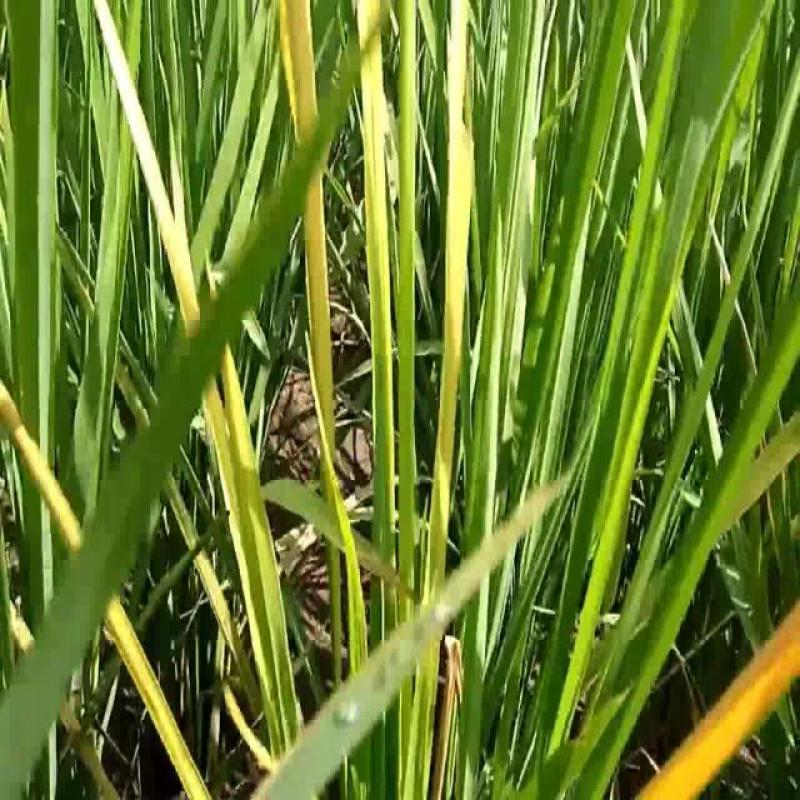Rice Tungro: (89, 1, 271, 581), (2, 374, 178, 761), (274, 4, 344, 466), (644, 592, 798, 800), (354, 2, 400, 457), (441, 1, 479, 504)
